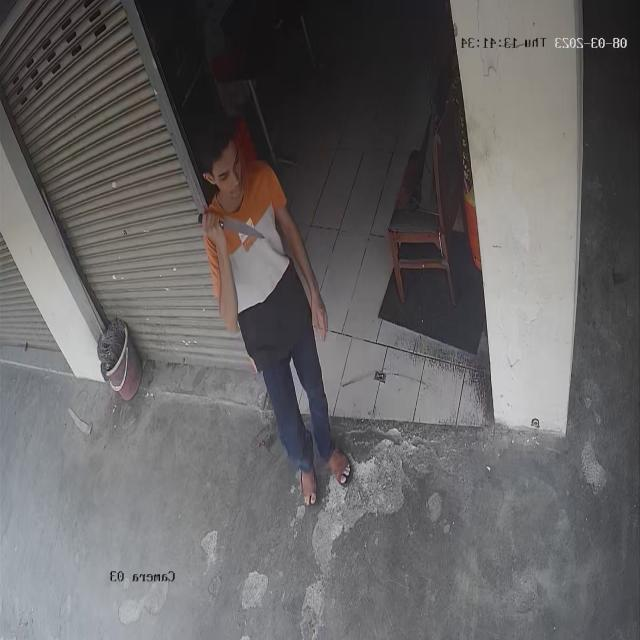Knife: (201, 204, 274, 247)
